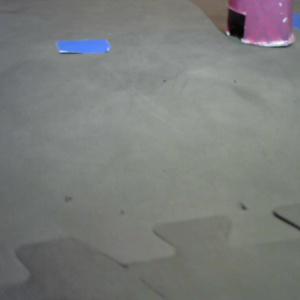right: (223, 1, 297, 48)
